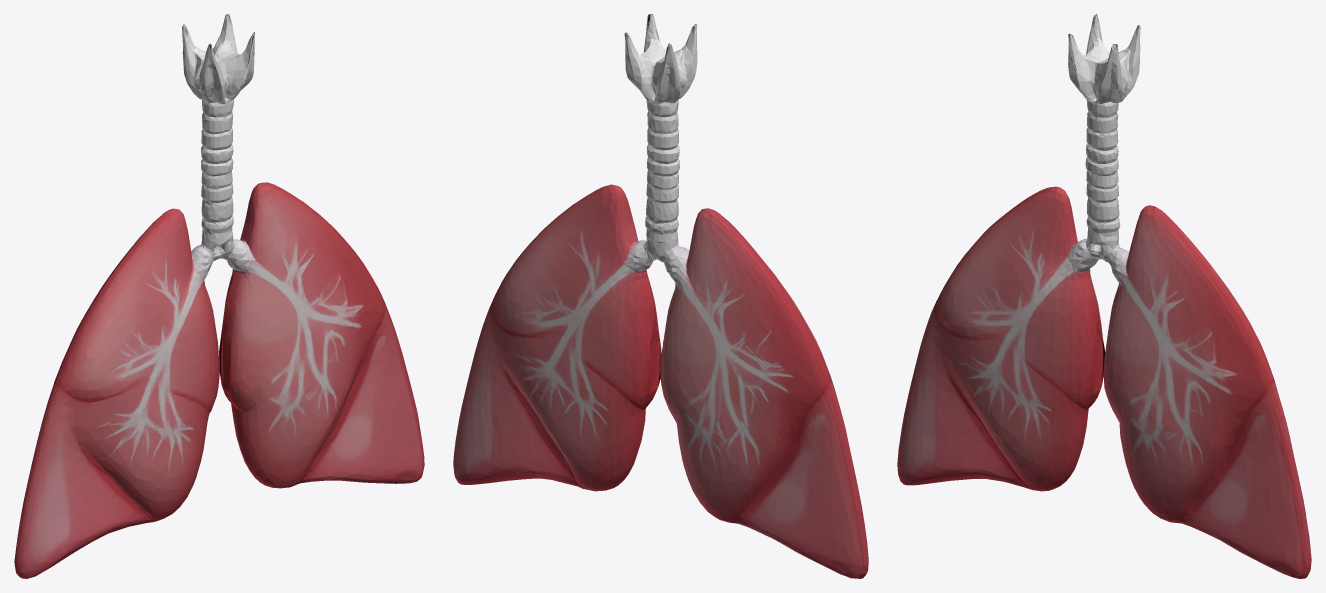
Rendered from lungs.glb.
3 views of the same model, side by side, from view 1: azimuth 30°, elevation 25°; view 2: azimuth 150°, elevation 25°; view 3: azimuth 330°, elevation 25° (orthographic).
Visible parts, largest first — view 1: world; view 2: world; view 3: world.
Boxes of the visible parts, <box> form: world: <box>14,14,424,578</box>; world: <box>453,14,868,578</box>; world: <box>897,14,1311,578</box>.
Size of the model in its own units: 0.8598 by 1 by 0.1095.
1 material, 1 textured.
